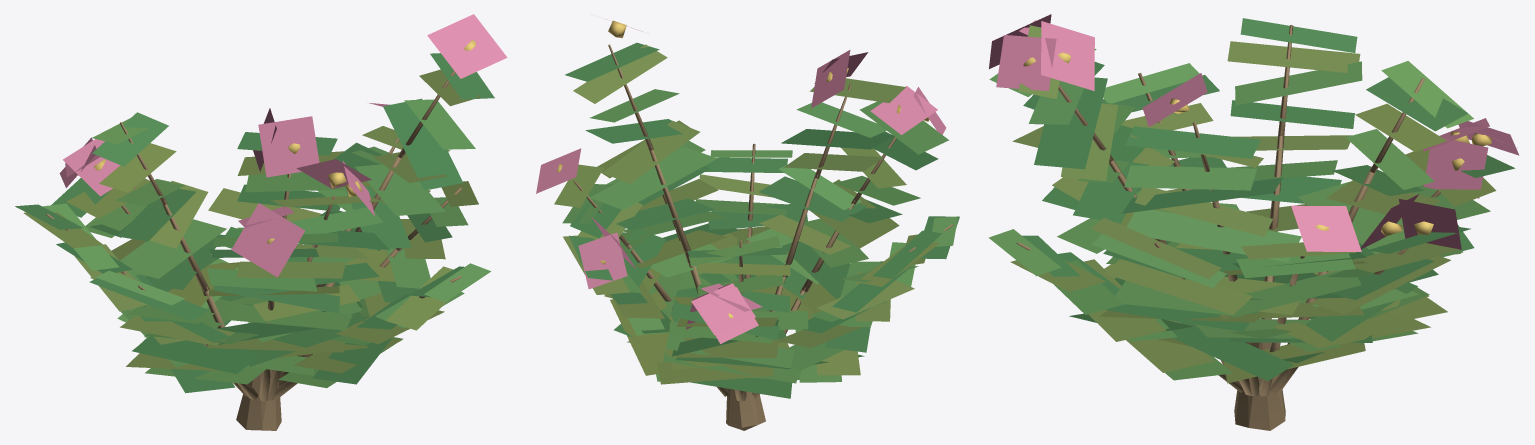
File: flower_bush_far.34da990b.glb
The picture shows the model from 3 angles, left to right: view 1: azimuth 30°, elevation 25°; view 2: azimuth 150°, elevation 25°; view 3: azimuth 270°, elevation 25°; orthographic projection. The views are drawn at different scales.
Visible parts, largest first — view 1: flower_bush; view 2: flower_bush; view 3: flower_bush.
Boxes of the visible parts, x1,y1,x2,y2 form: flower_bush: [15, 14, 507, 430]; flower_bush: [536, 19, 959, 430]; flower_bush: [989, 14, 1519, 430].
Bounding box in the file's own units: 1.16 × 1.04 × 1.15.
